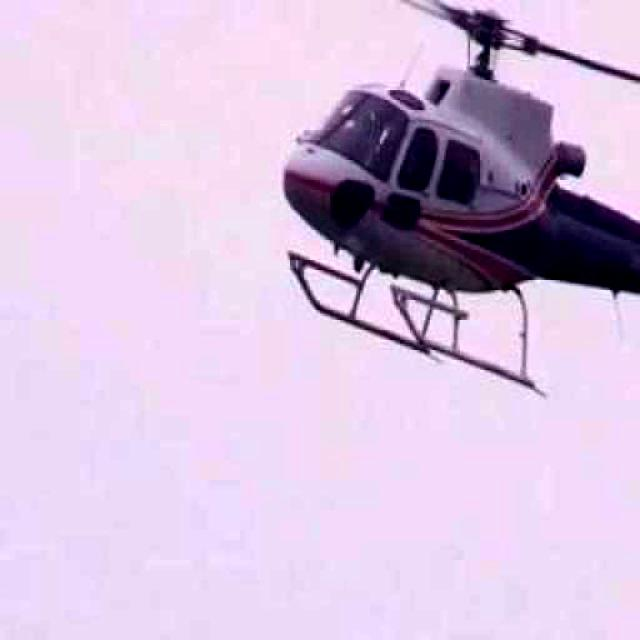drone: (139, 0, 640, 448)
